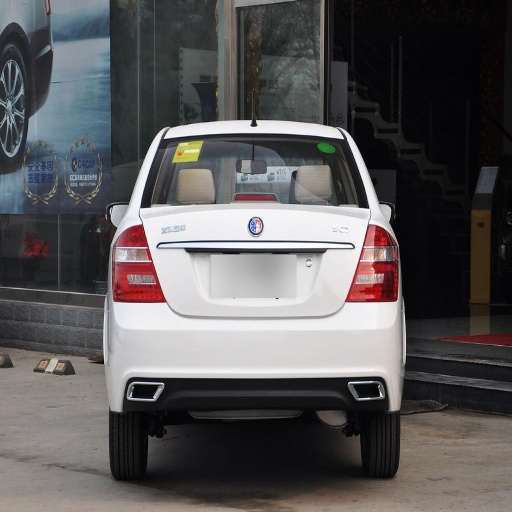_background_: (0, 0, 511, 511)
back_bumper: (101, 299, 400, 420)
